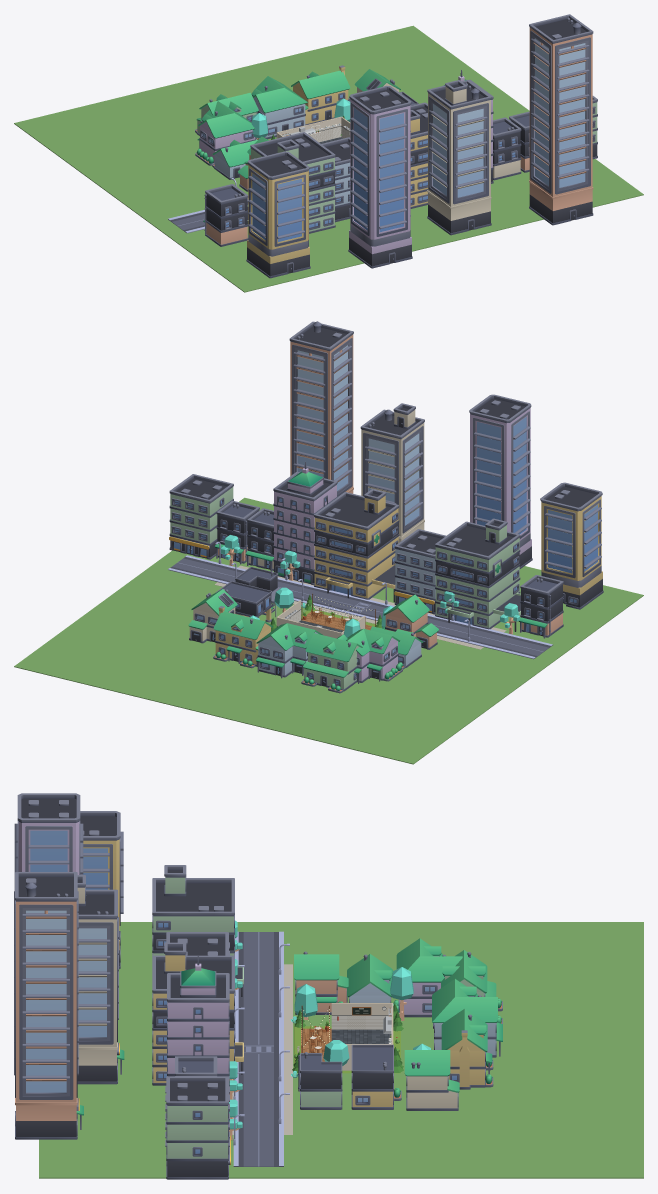
Rendered from Kitchen_Room.glb.
3 views of the same model, one above another, from view 1: azimuth 30°, elevation 25°; view 2: azimuth 150°, elevation 25°; view 3: azimuth 270°, elevation 25° (orthographic). The views are drawn at different scales.
Visible parts, largest first — view 1: Backdrop_Ground, KN_building-skyscraper-d.001, KN_building-skyscraper-b.001, KN_building-skyscraper-c.001, KN_building-skyscraper-a.001, KN_building-n.001, KN_building-h.001, KN_building-type-f.002, KN_building-type-f.001, KN_building-type-d.001, KN_building-n.002, KN_building-h.002 (+7 smaller); view 2: Backdrop_Ground, KN_building-skyscraper-d.001, KN_building-skyscraper-b.001, KN_building-n.002, KN_building-n.001, KN_building-skyscraper-a.001, KN_building-skyscraper-c.001, KN_building-m.001, KN_building-i.002, KN_building-i.001, KN_building-type-t.001, KN_building-h.001 (+17 smaller); view 3: Backdrop_Ground, KN_building-skyscraper-d.001, KN_building-skyscraper-c.001, KN_building-i.002, KN_building-m.001, KN_building-n.001, KN_building-skyscraper-b.001, KN_building-n.002, KN_building-skyscraper-a.001, KN_building-type-d.001, KN_building-type-u.001, KN_building-type-p.001 (+26 smaller).
Part boxes in pixels (x1,y1,x2,y2): Backdrop_Ground: [14, 25, 643, 292]; KN_building-skyscraper-d.001: [529, 14, 593, 225]; KN_building-skyscraper-b.001: [348, 85, 412, 268]; KN_building-skyscraper-c.001: [427, 80, 491, 235]; KN_building-skyscraper-a.001: [246, 151, 310, 278]; KN_building-n.001: [247, 132, 335, 233]; KN_building-h.001: [203, 184, 248, 246]; KN_building-type-f.002: [251, 76, 307, 139]; KN_building-type-f.001: [195, 101, 255, 165]; KN_building-type-d.001: [291, 65, 350, 125]; KN_building-n.002: [410, 102, 427, 208]; KN_building-h.002: [493, 117, 521, 180]; Backdrop_Ground: [14, 497, 643, 764]; KN_building-skyscraper-d.001: [289, 321, 353, 496]; KN_building-skyscraper-b.001: [469, 394, 532, 569]; KN_building-n.002: [314, 489, 399, 602]; KN_building-n.001: [435, 518, 520, 631]; KN_building-skyscraper-a.001: [540, 482, 603, 609]; KN_building-skyscraper-c.001: [360, 403, 424, 542]; KN_building-m.001: [273, 462, 337, 585]; KN_building-i.002: [169, 474, 233, 559]; KN_building-i.001: [394, 529, 445, 614]; KN_building-type-t.001: [301, 633, 362, 693]; KN_building-h.001: [518, 575, 563, 638]; Backdrop_Ground: [39, 922, 643, 1178]; KN_building-skyscraper-d.001: [14, 872, 83, 1139]; KN_building-skyscraper-c.001: [77, 875, 124, 1084]; KN_building-i.002: [165, 1076, 230, 1179]; KN_building-m.001: [167, 955, 229, 1094]; KN_building-n.001: [152, 865, 243, 996]; KN_building-skyscraper-b.001: [14, 793, 83, 890]; KN_building-n.002: [152, 942, 243, 1085]; KN_building-skyscraper-a.001: [80, 811, 123, 969]; KN_building-type-d.001: [441, 1008, 493, 1089]; KN_building-type-u.001: [404, 1050, 459, 1110]; KN_building-type-p.001: [351, 1044, 401, 1109].
Size of the model in its own units: 60.45 by 29.67 by 62.47.
92 materials, 25 textured.
